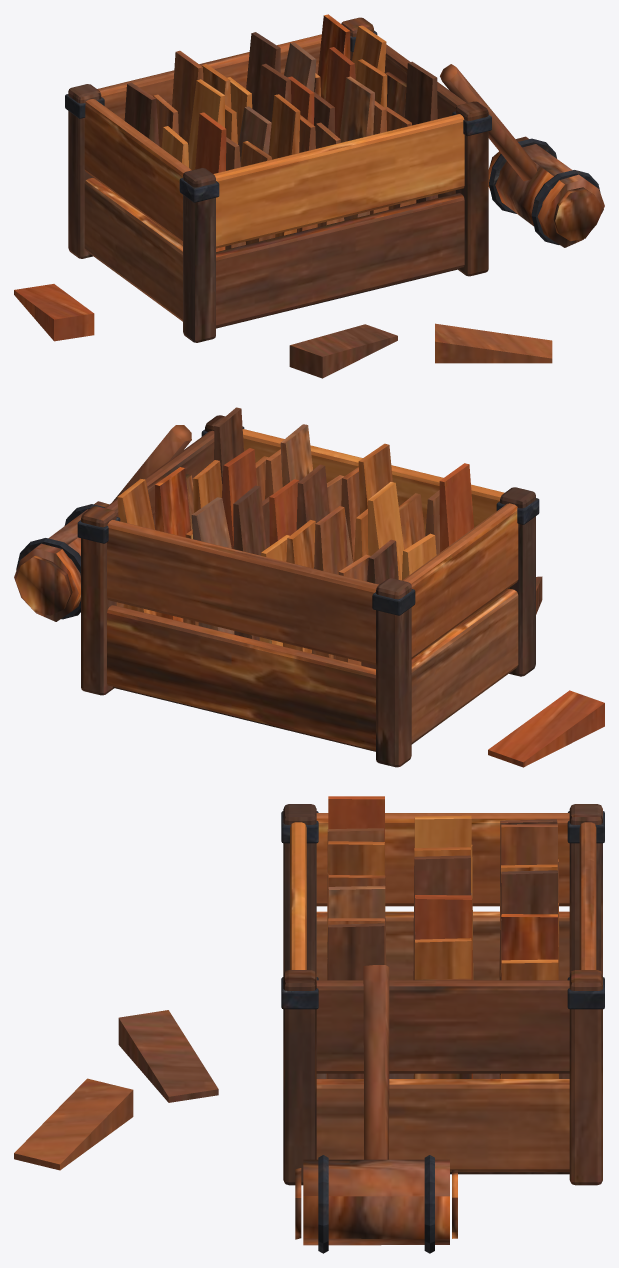
Rendered from mp_wedge_crate.glb.
3 views of the same model, one above another, from view 1: azimuth 30°, elevation 25°; view 2: azimuth 150°, elevation 25°; view 3: azimuth 270°, elevation 25° (orthographic). The views are drawn at different scales.
Visible parts, largest first — view 1: model; view 2: model; view 3: model.
Boxes of the visible parts, bbox=[...] form: model: bbox=[14, 14, 604, 378]; model: bbox=[14, 407, 604, 767]; model: bbox=[14, 796, 604, 1253].
Size of the model in its own units: 1.14 by 0.4042 by 0.8876.
Materials: 13 (13 with a texture image).
